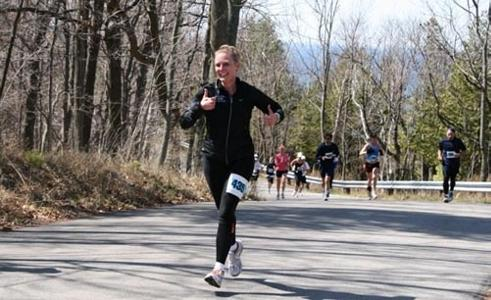person: (179, 43, 284, 288)
